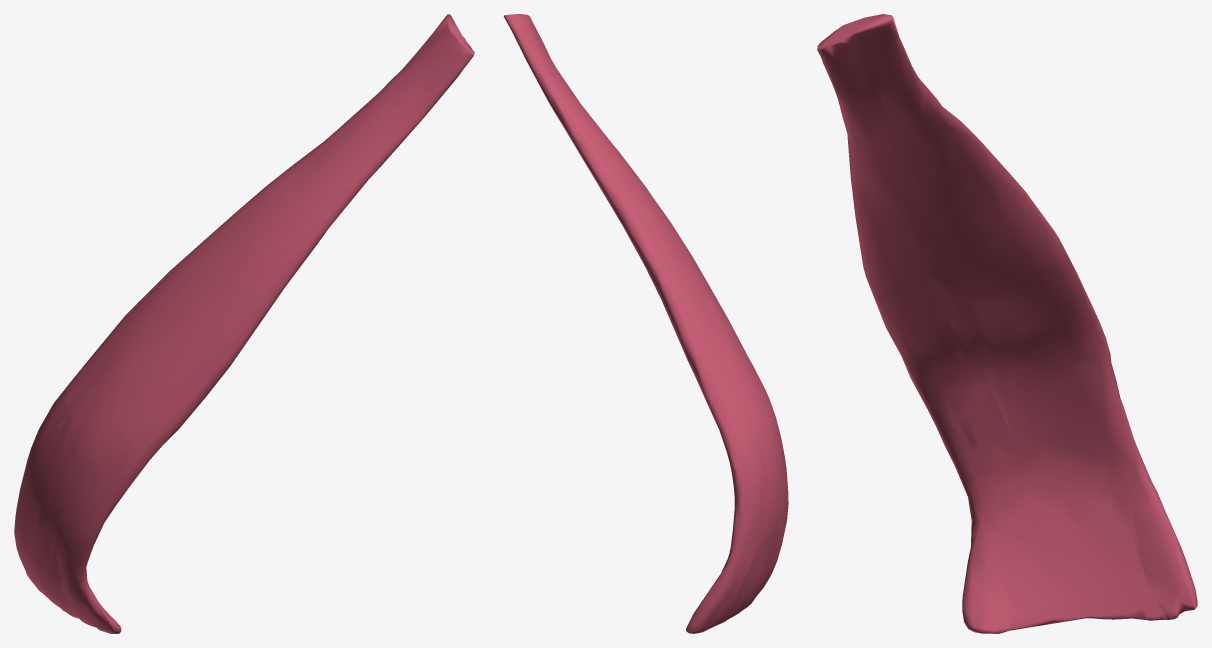
3 views of the same model, side by side, from view 1: azimuth 30°, elevation 25°; view 2: azimuth 150°, elevation 25°; view 3: azimuth 270°, elevation 25° (orthographic). The views are drawn at different scales.
Visible parts, largest first — view 1: 右侧外直肌; view 2: 右侧外直肌; view 3: 右侧外直肌.
Boxes of the visible parts, x1,y1,x2,y2 form: 右侧外直肌: (14,14,474,633); 右侧外直肌: (503,14,788,633); 右侧外直肌: (817,14,1197,633).
Bounding box in the file's own units: 0.039 × 0.0586 × 0.0243.
